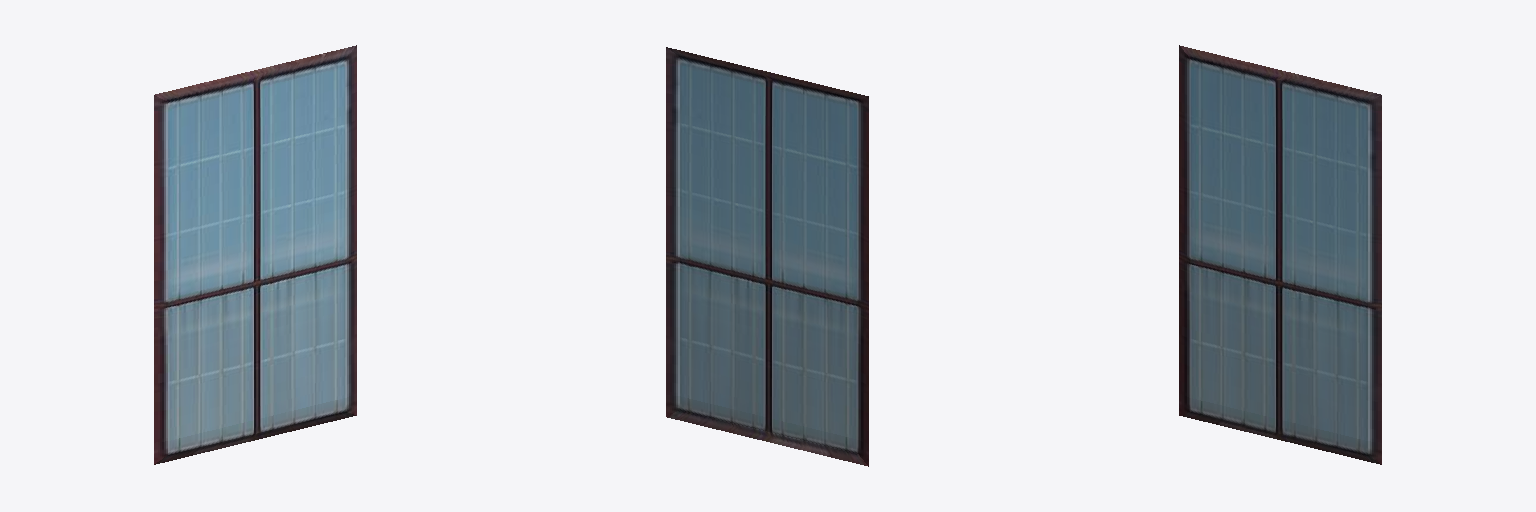
3 renders of one model, left to right at view 1: azimuth 30°, elevation 25°; view 2: azimuth 150°, elevation 25°; view 3: azimuth 330°, elevation 25°, orthographic.
Parts seen in each view (by area): view 1: pCube2; view 2: pCube2; view 3: pCube2.
Part boxes in pixels (left/top/right/bottom): pCube2: left=154, top=45, right=356, bottom=464; pCube2: left=666, top=47, right=868, bottom=466; pCube2: left=1179, top=45, right=1381, bottom=464.
Size of the model in its own units: 138 by 241 by 2.3.
Materials: 1 (1 with a texture image).